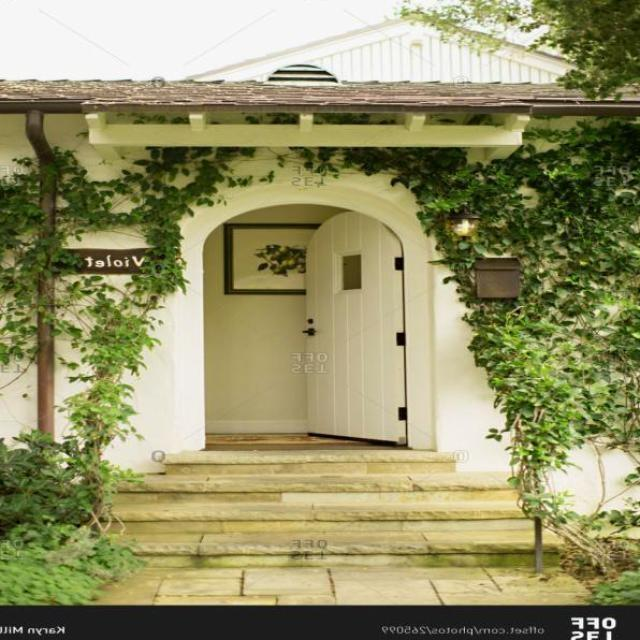door: (303, 209, 407, 445)
